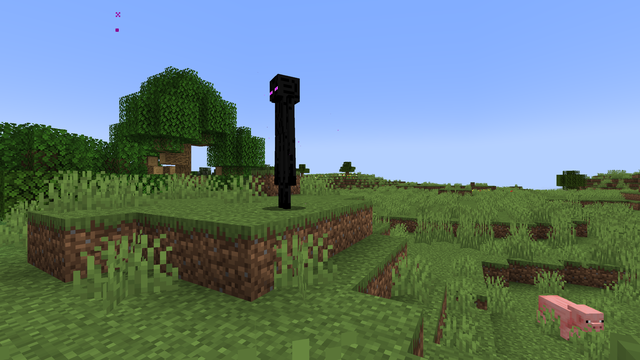cochons: (540, 293, 589, 344)
endermens: (264, 68, 302, 210)
